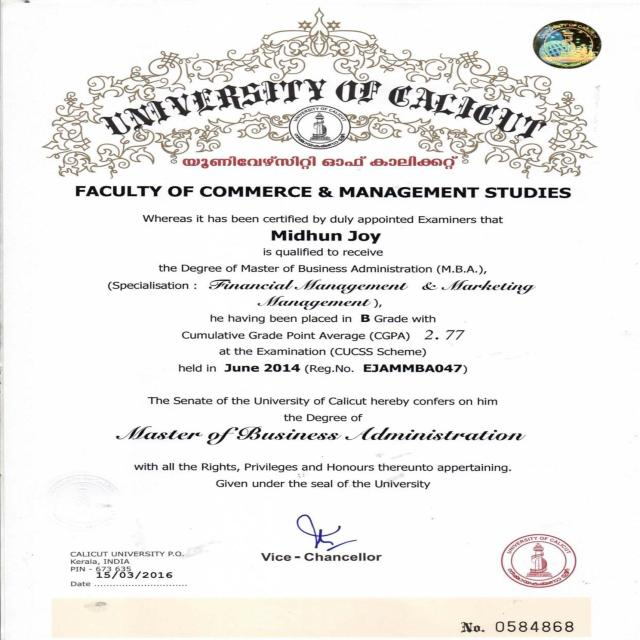signature: (280, 503, 371, 551)
